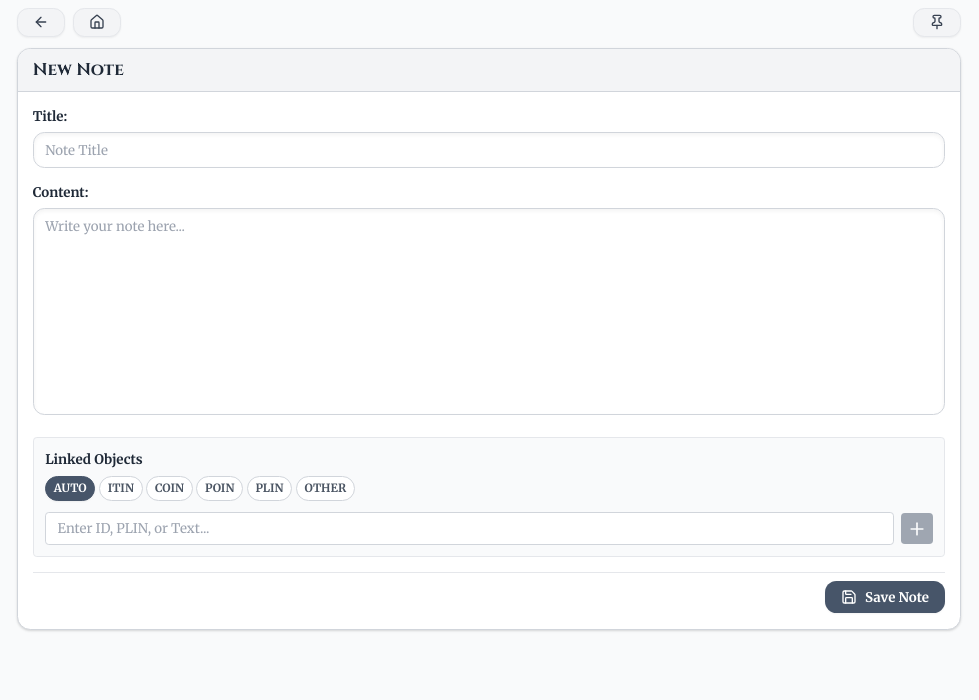
it: CreateNote Page › saves new note with pinned status
The image size is (979, 700).
Type "Test Note" into the field with placeholder "Note Title".
click(489, 150); type("Test Note")  # box x1=33 y1=132 x2=945 y2=168
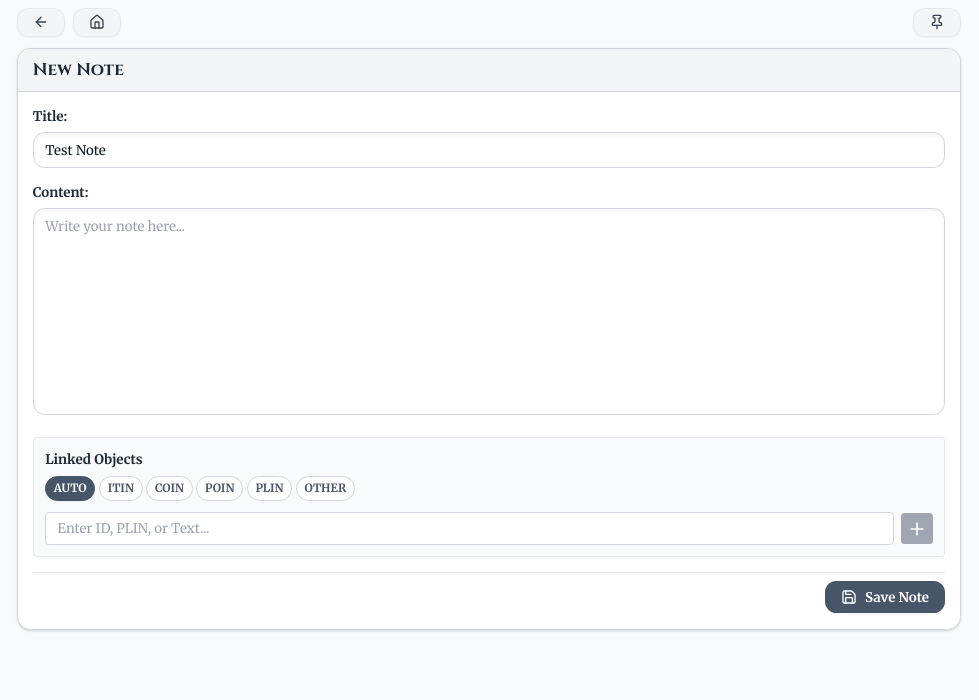
Type "Some content" into the text box with placeholder "Write your note here...".
click(489, 312); type("Some content")  # box x1=33 y1=208 x2=945 y2=415
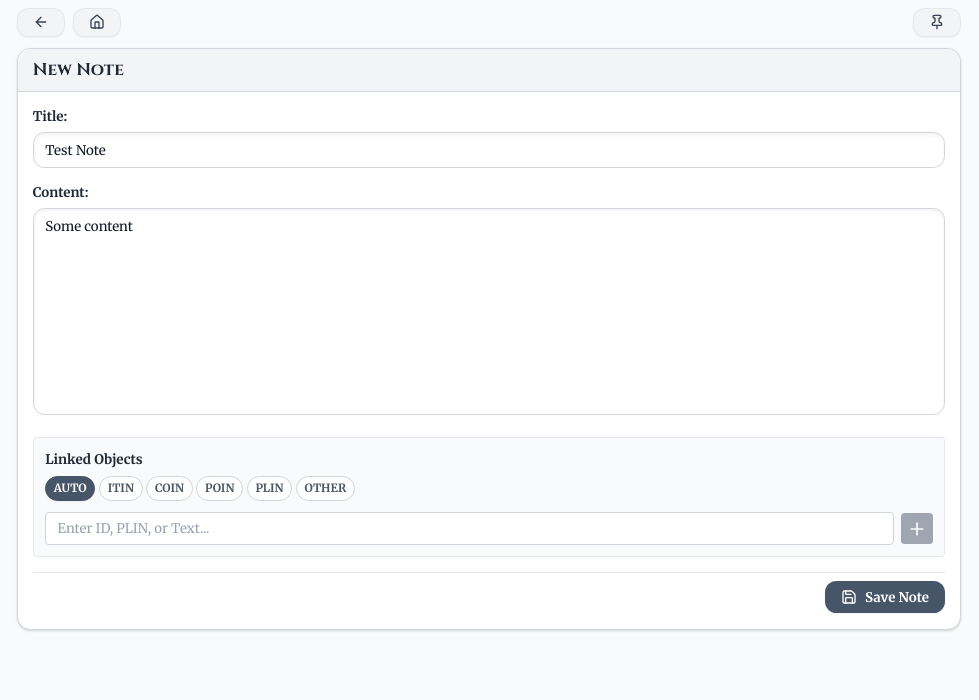
// Pin the note
Click the button titled "Pin Note".
click(937, 22)  # box x1=913 y1=8 x2=961 y2=37
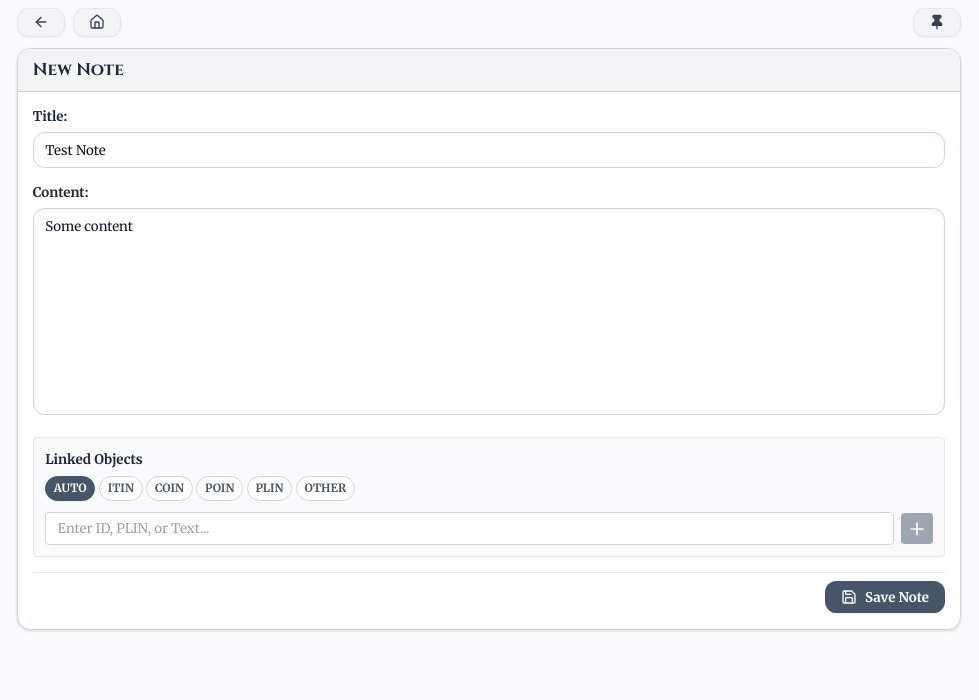
Click the button "Save Note".
click(885, 597)  # box x1=825 y1=581 x2=945 y2=613
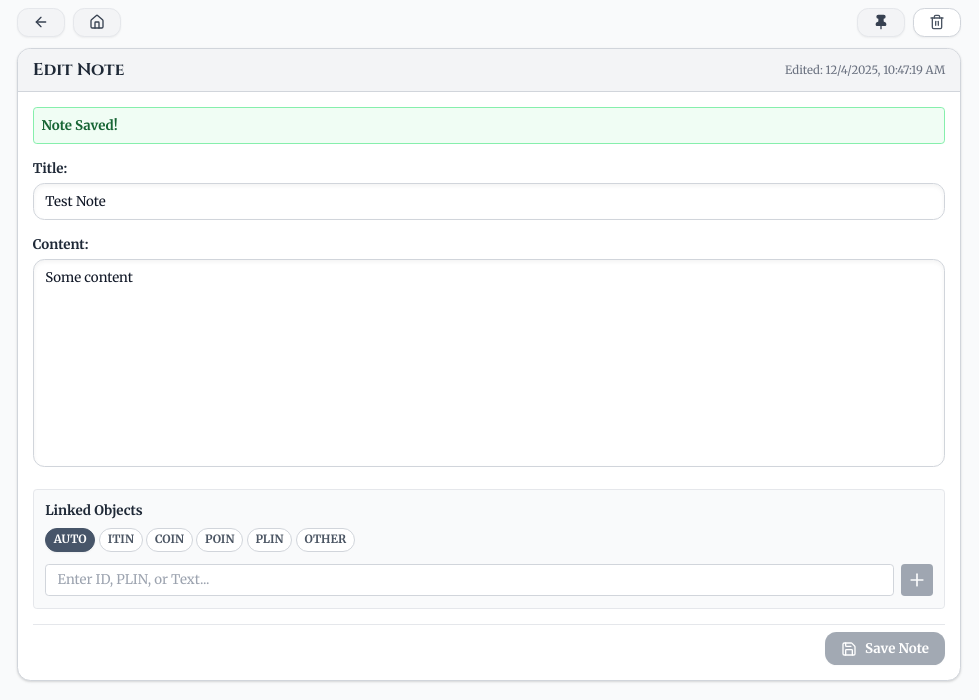
Check: the text "Note Saved!" is shown, box x1=41 y1=117 x2=118 y2=134
